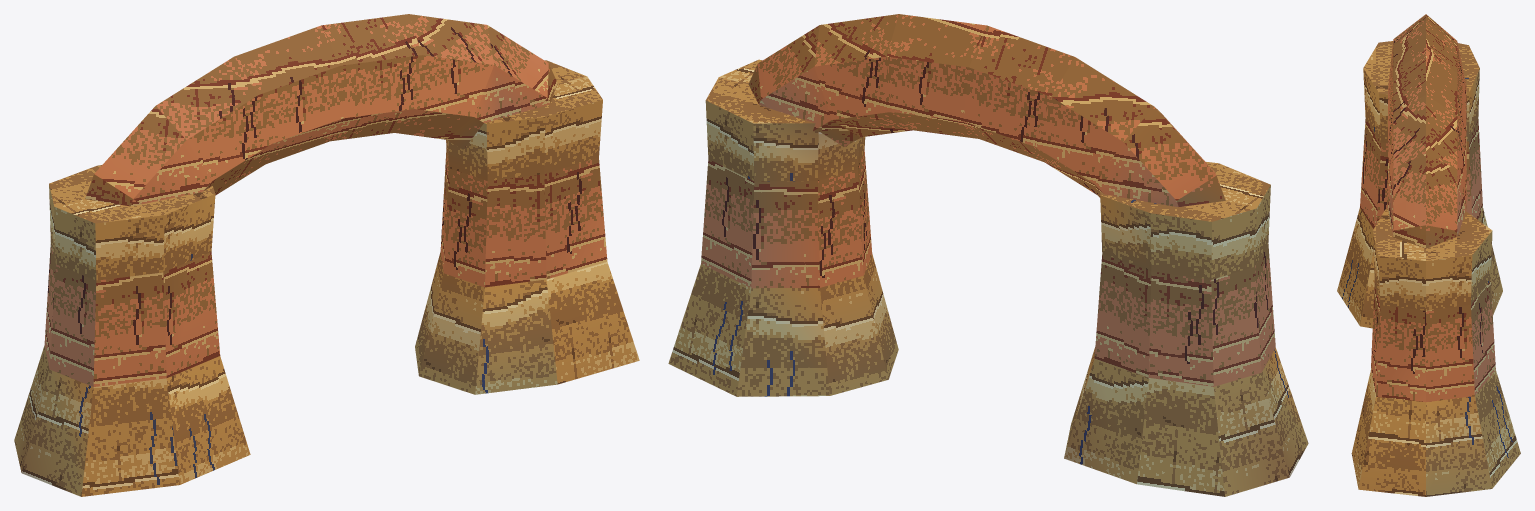
Rendered from wland.arch.glb.
The picture shows the model from 3 angles, left to right: view 1: azimuth 30°, elevation 25°; view 2: azimuth 150°, elevation 25°; view 3: azimuth 270°, elevation 25°; orthographic projection. The views are drawn at different scales.
Parts seen in each view (by area): view 1: kit_legs, kit_span; view 2: kit_legs, kit_span; view 3: kit_legs, kit_span.
Boxes of the visible parts, x1=… form: kit_legs: x1=14, y1=60, x2=639, y2=496; kit_span: x1=85, y1=14, x2=557, y2=206; kit_legs: x1=668, y1=59, x2=1308, y2=496; kit_span: x1=748, y1=14, x2=1225, y2=206; kit_legs: x1=1337, y1=41, x2=1520, y2=496; kit_span: x1=1388, y1=14, x2=1466, y2=248.
Size of the model in its own units: 15.44 by 9.27 by 4.78.
3 materials, 3 textured.
